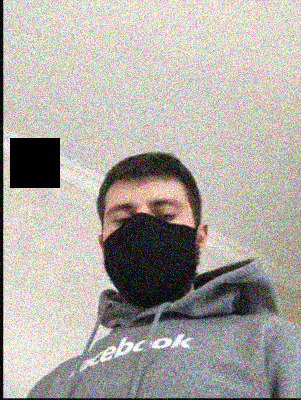with_mask: (104, 193, 197, 306)
